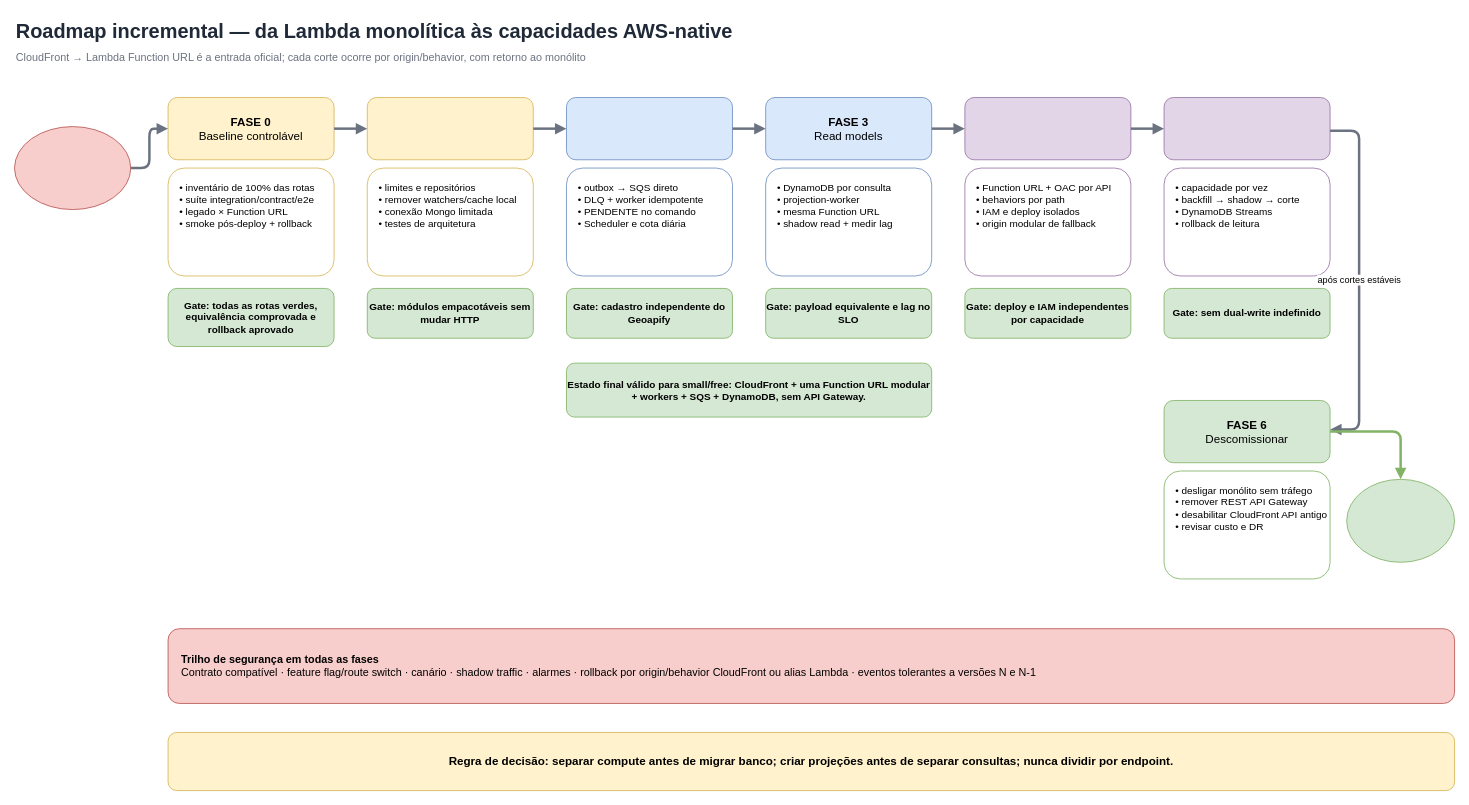
This 1469x805 diagram has some shape labels left out. The shapes that lost their labels are listed below. From the top down, each one's centre as x and y in pixels, then its label:
At point (449, 128): "FASE 1 Modularizar no monólito".
At point (649, 128): "FASE 2 Extrair geocodificação".
At point (1047, 128): "FASE 4 — OPCIONAL Separar APIs".
At point (1246, 128): "FASE 5 Migrar dados".
At point (72, 168): "HOJE Lambda monolítica".
At point (1400, 520): "ALVO capacidades independentes".
